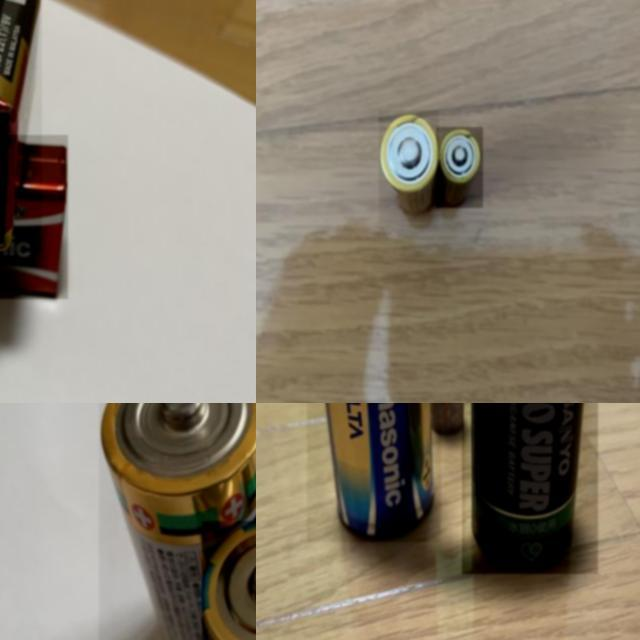9V: (0, 135, 67, 299), (0, 0, 42, 252)
